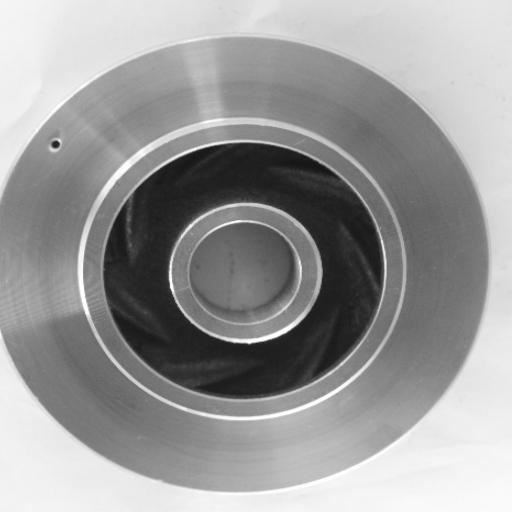pit: (43, 135, 68, 154)
unpolished_casting: (2, 35, 487, 493)
